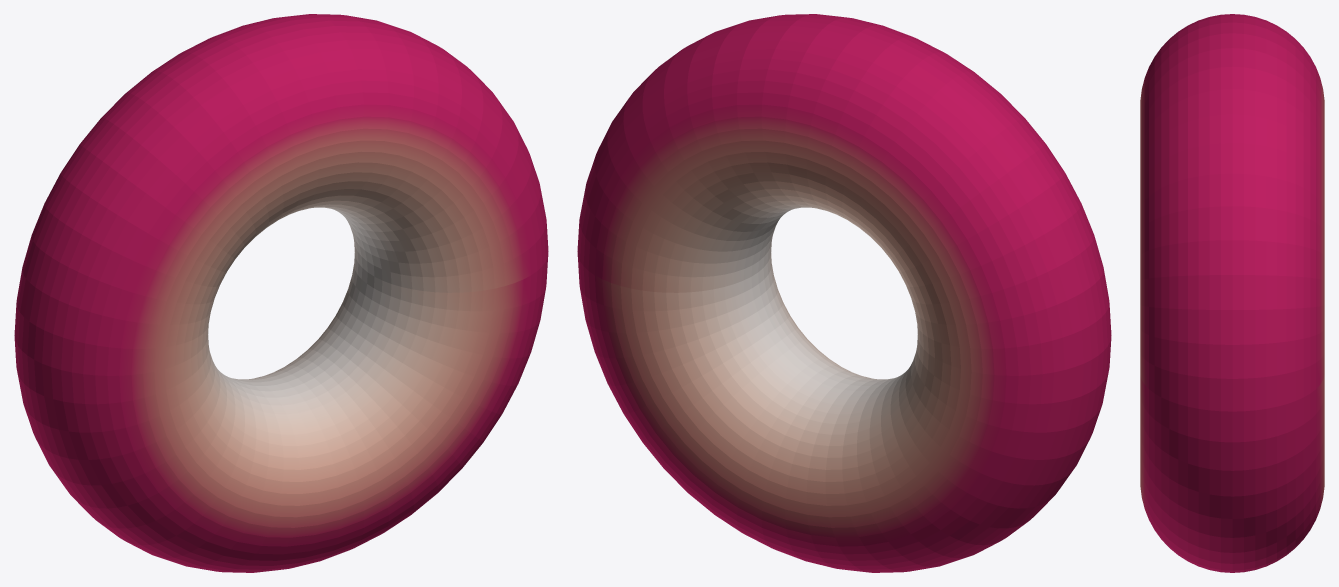
3 renders of one model, left to right at view 1: azimuth 30°, elevation 25°; view 2: azimuth 150°, elevation 25°; view 3: azimuth 270°, elevation 25°, orthographic. The views are drawn at different scales.
Parts seen in each view (by area): view 1: world; view 2: world; view 3: world.
Part boxes in pixels (box(x1,y1,x2,y2)): world: box(14, 14, 548, 572); world: box(577, 14, 1111, 572); world: box(1140, 14, 1324, 572).
Size of the model in its own units: 27.87 by 27.81 by 9.18.
